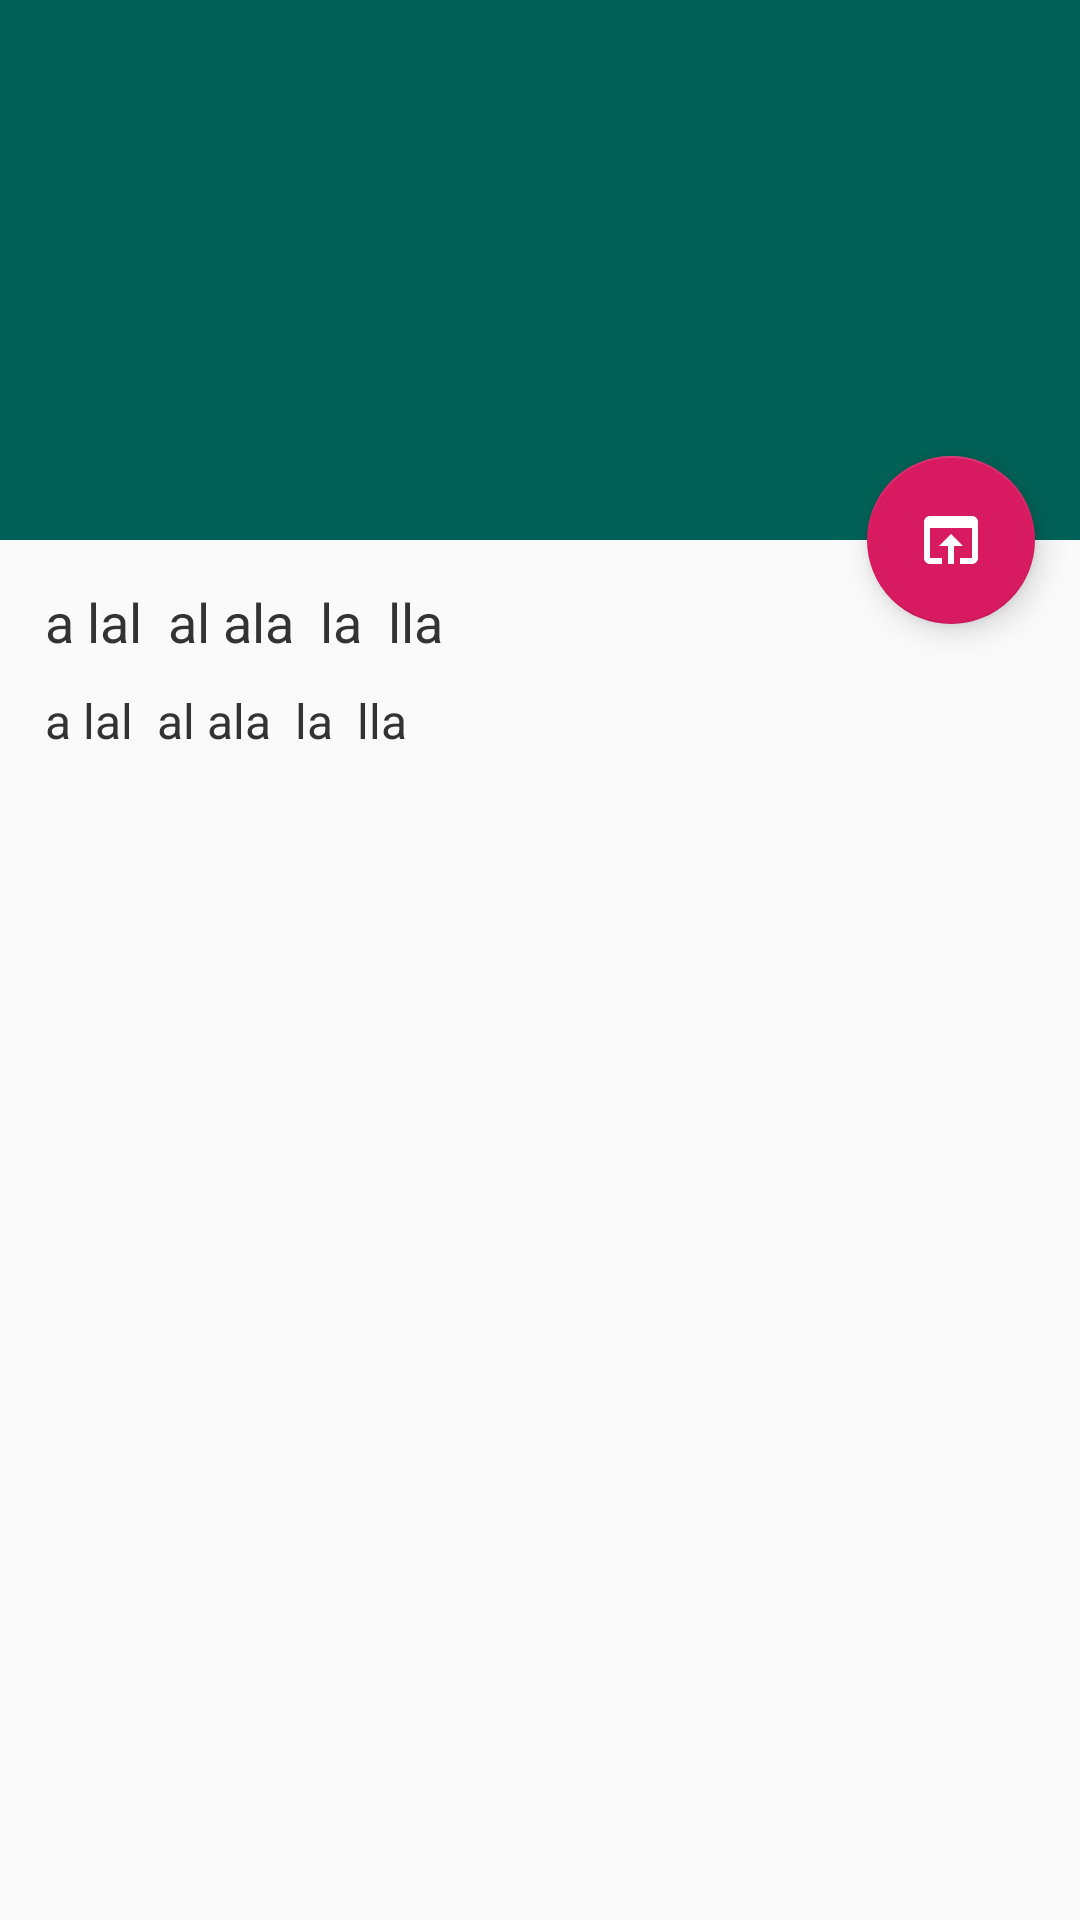

Point at icon controls on the screen. Image size 1080 x 1920, points as (x=x, y=y).
open in app: (x=951, y=540)
